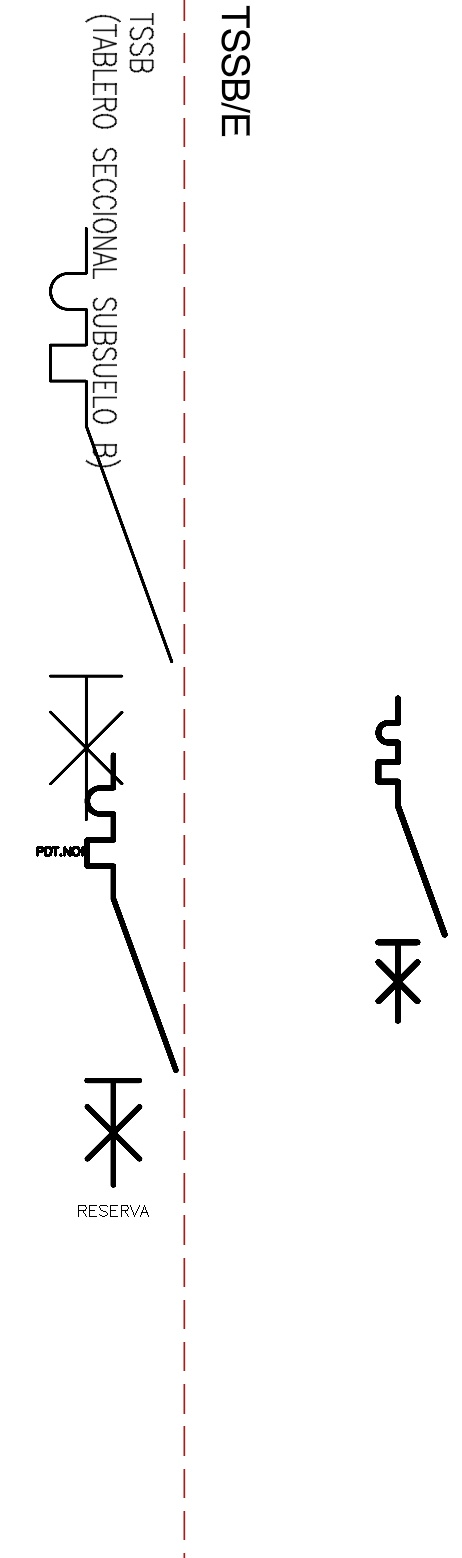interruptor_termomagnetico: (35, 213, 187, 835), (76, 744, 186, 1196), (370, 690, 453, 1028)
